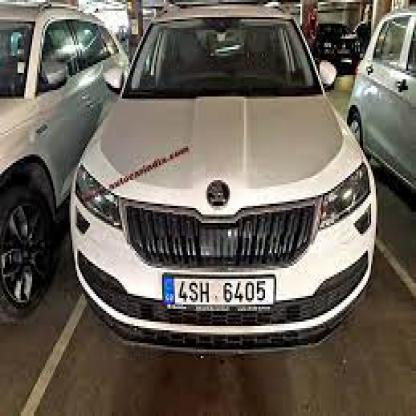car: (69, 0, 378, 358)
